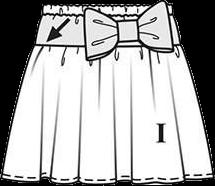Hemline: (1, 175, 214, 185)
Waistline: (41, 12, 172, 16), (42, 2, 171, 6), (34, 43, 180, 46)
